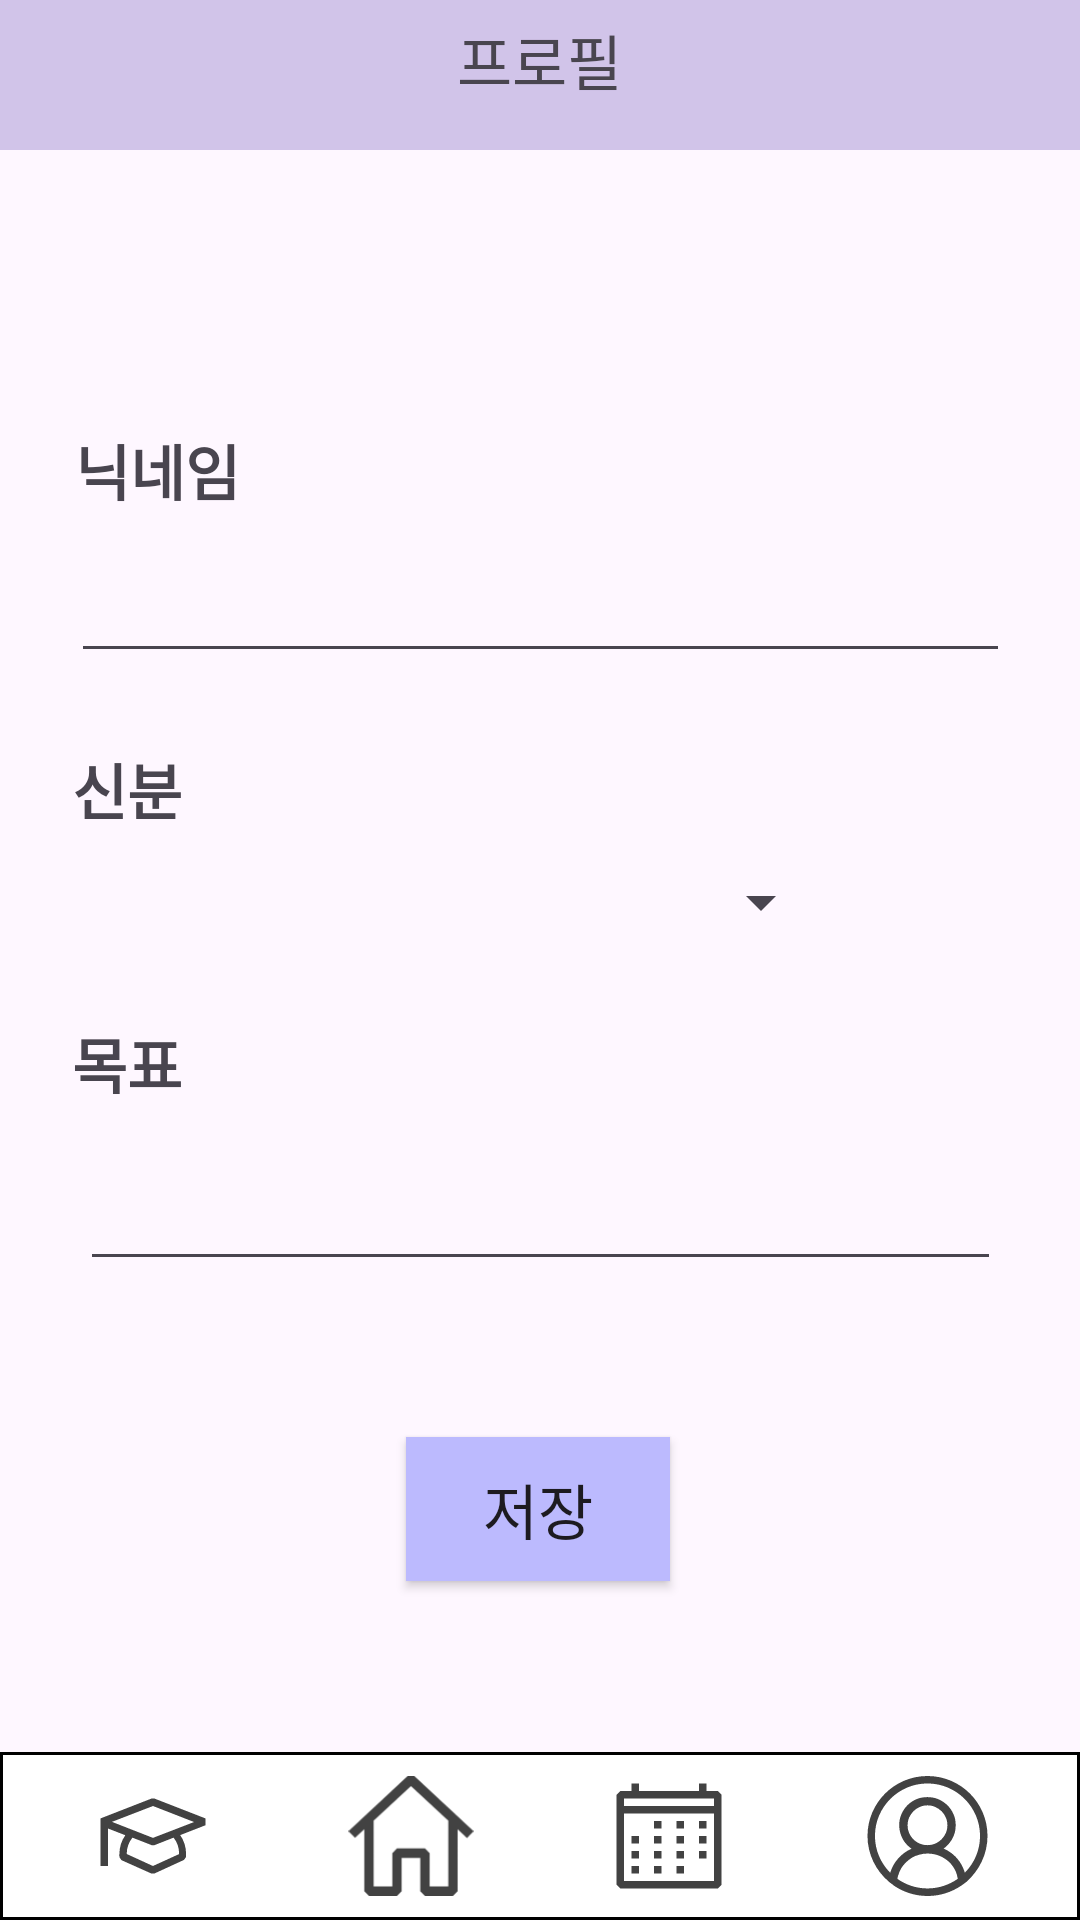

Locate icon controls on the screen. Image size 1080 x 1920, boxes as region(x1, y1, x2, y2).
home: region(348, 1776, 474, 1896)
plan: region(616, 1783, 722, 1889)
profile: region(867, 1776, 988, 1896)
